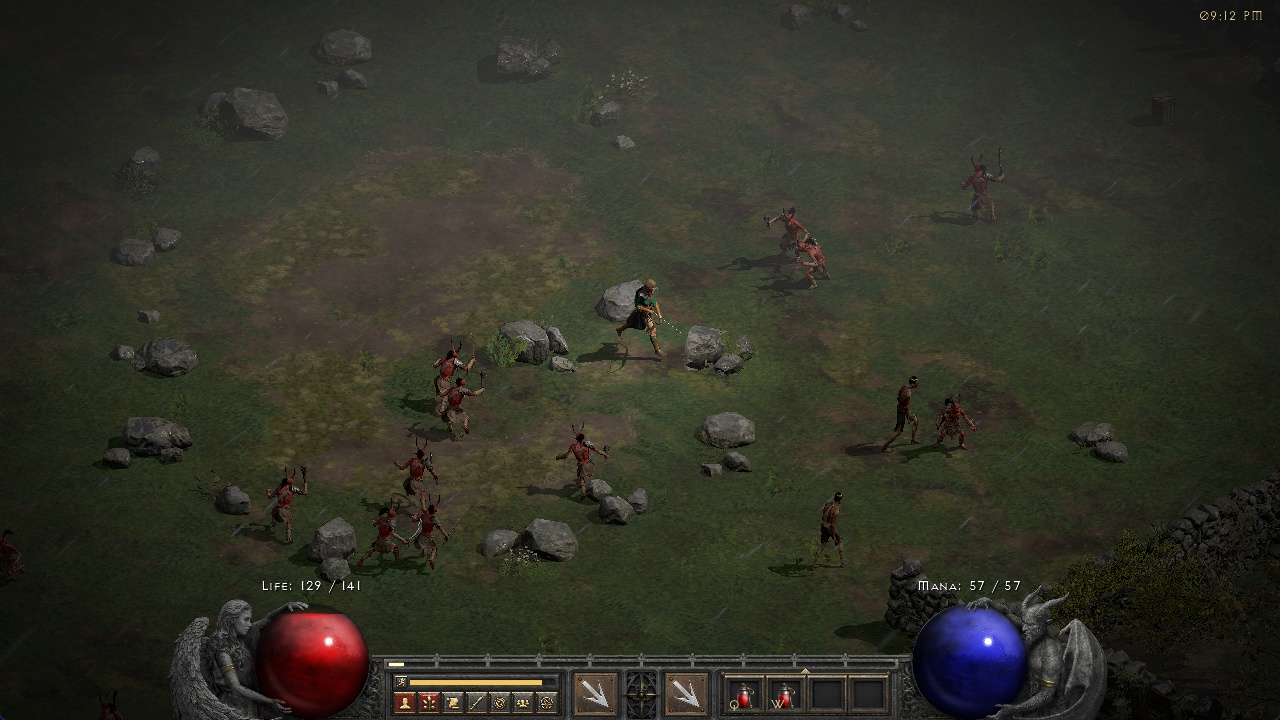fallen: (955, 141, 1015, 221), (263, 465, 313, 544), (559, 429, 612, 496), (928, 391, 981, 451), (409, 501, 456, 561), (433, 376, 479, 432), (366, 505, 408, 564), (395, 445, 436, 500), (759, 198, 812, 234), (792, 236, 825, 288), (435, 341, 474, 371)
